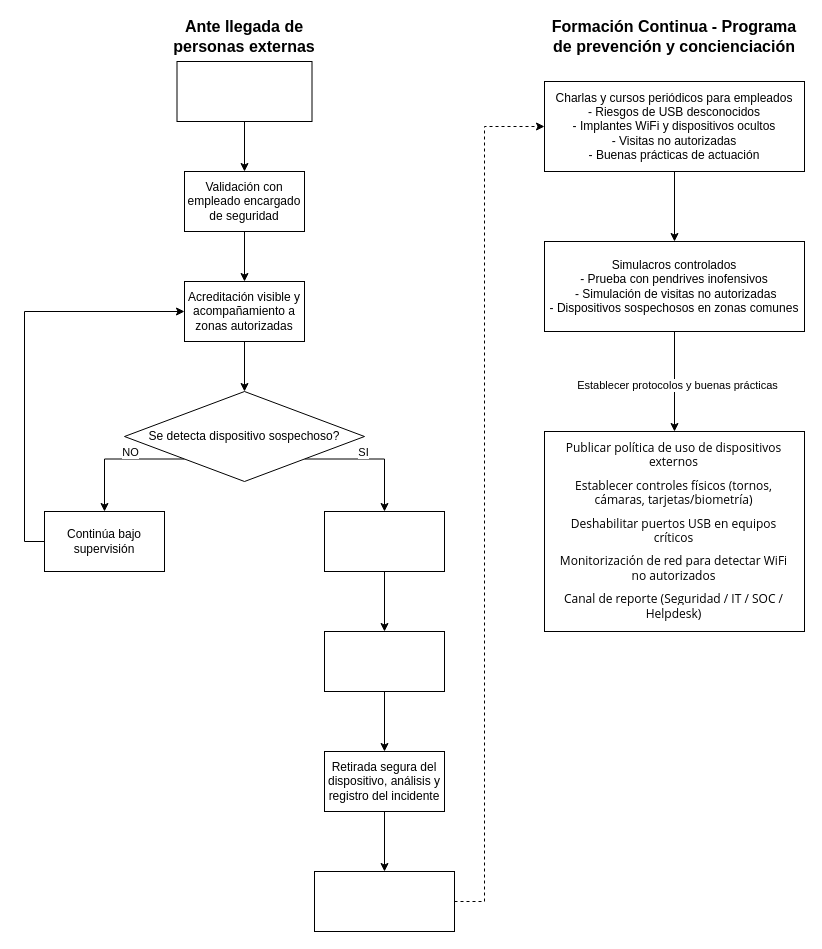
This 822x949 diagram has some shape labels left out. The shapes that lost their labels are listed below. From the top down, each one's centre as x and y in pixels, then its label:
the point at 244,91: Registro obligatorio de DNI, motivo, hora y empresa de provedencia
the point at 384,541: No tocar, no conectar, no manipular
the point at 384,661: Aislar zona o equipo involucrado si procede
the point at 384,901: Aprendizaje: compartir documentación, hacer charlas y cursos.
